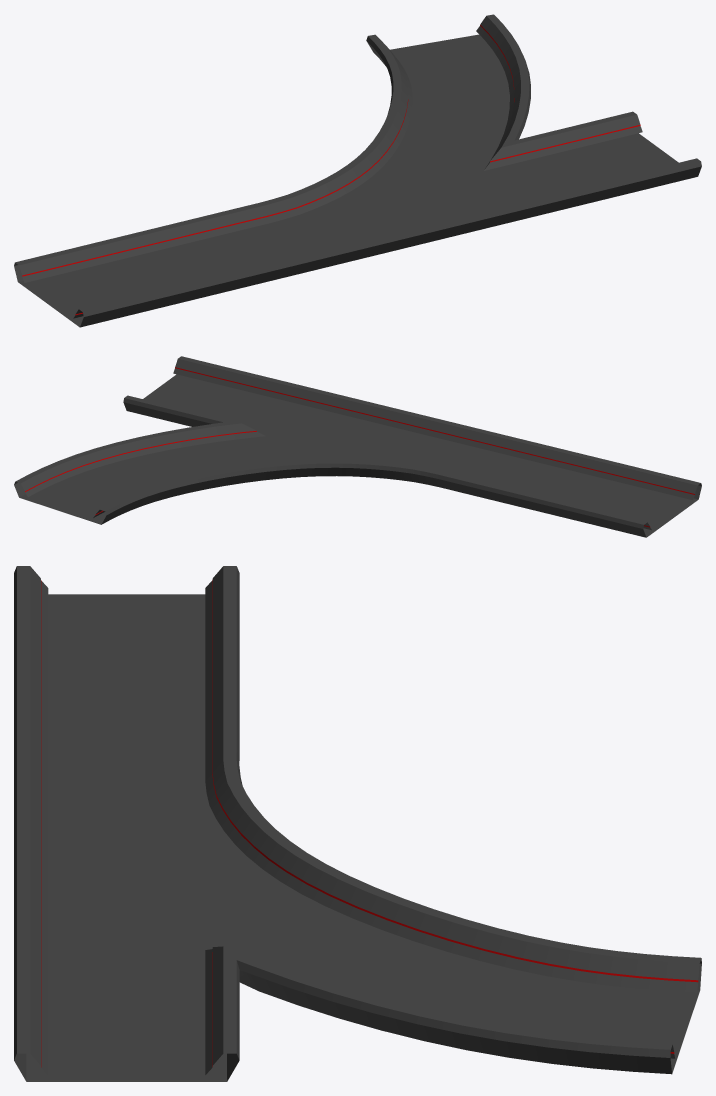
The model's file is splitOffLeftWall.fbx.
3 renders of one model, top to bottom at view 1: azimuth 30°, elevation 25°; view 2: azimuth 150°, elevation 25°; view 3: azimuth 270°, elevation 25°, orthographic. The views are drawn at different scales.
Parts seen in each view (by area): view 1: splitOffLeftWall; view 2: splitOffLeftWall; view 3: splitOffLeftWall.
Part boxes in pixels (left/top/right/bottom): splitOffLeftWall: left=14, top=14, right=701, bottom=327; splitOffLeftWall: left=14, top=356, right=701, bottom=537; splitOffLeftWall: left=14, top=566, right=701, bottom=1081.
Size of the model in its own units: 0.8875 by 0.0241 by 0.5292.
